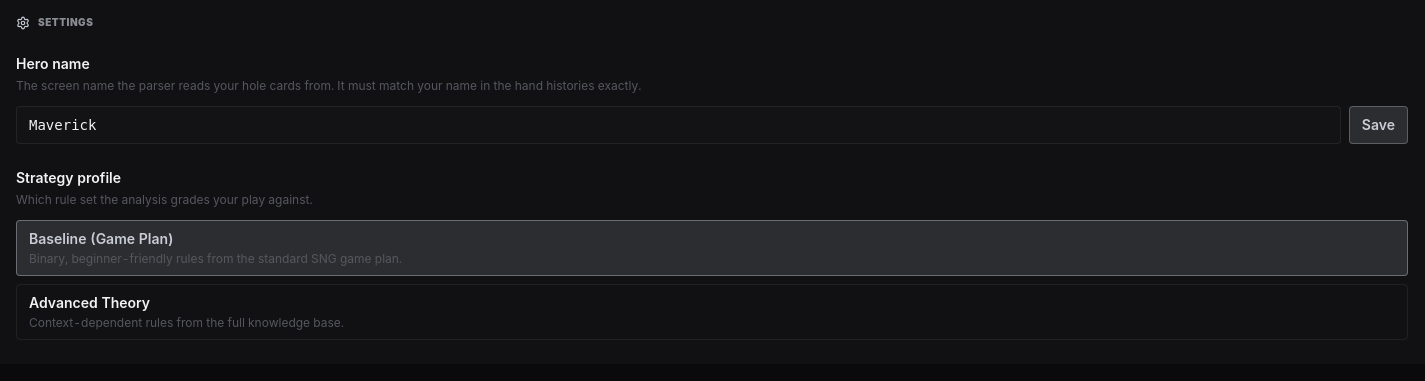
Test: SettingsCard › trims surrounding whitespace when saving the hero name
The width and height of the screenshot is (1425, 381).
Replace the text in the field labelled "Hero name" with "  newhero  " at (678, 125), box left=16, top=106, right=1341, bottom=144
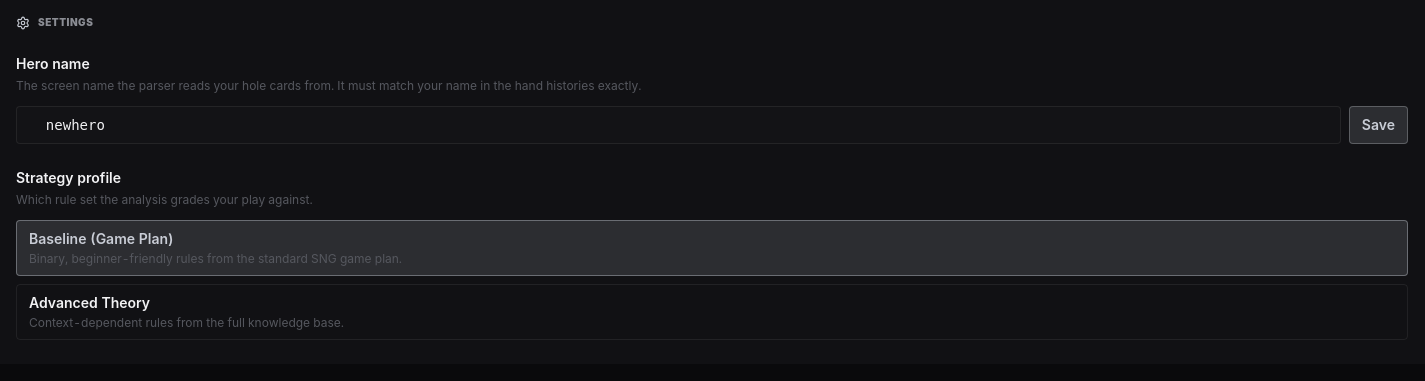
Click the button "Save" at (1378, 125), box left=1349, top=106, right=1408, bottom=144
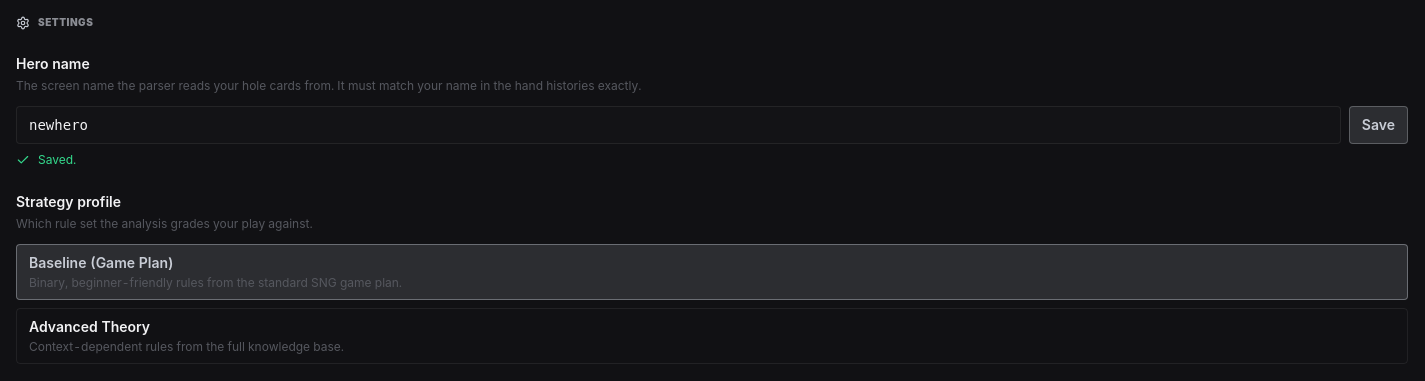
Expected: the text "Saved." is shown, left=38, top=152, right=76, bottom=168
